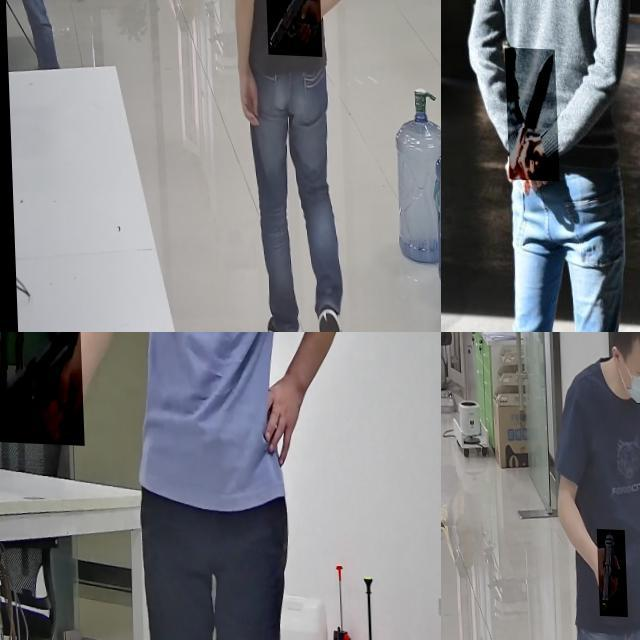-: (503, 46, 557, 180)
gun-knife-thesis - v11 Yolov5 augmented: (0, 332, 82, 444), (263, 0, 319, 53), (595, 526, 625, 614)
